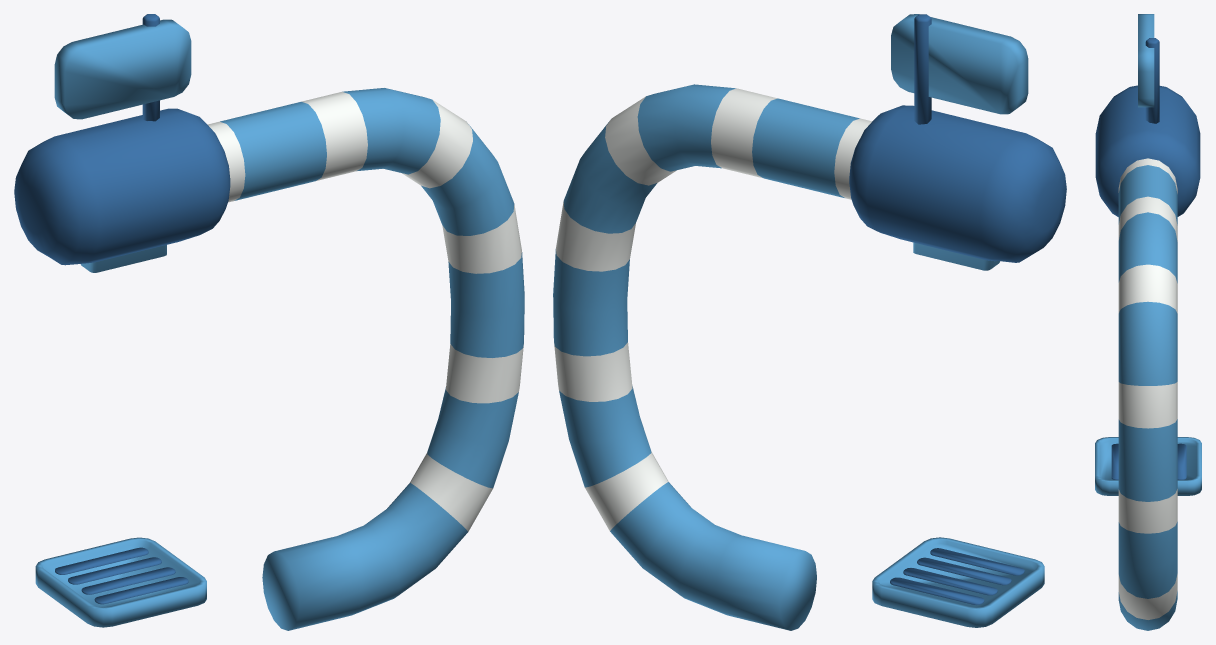
File: Long Machine1.fbx
3 views of the same model, side by side, from view 1: azimuth 30°, elevation 25°; view 2: azimuth 150°, elevation 25°; view 3: azimuth 270°, elevation 25° (orthographic). The views are drawn at different scales.
Visible parts, largest first — view 1: Cylinder.049, Cylinder.050, Cube.188, Cube.214, Cube.215, Cube.216, Cube.217, Cube.218; view 2: Cylinder.049, Cylinder.050, Cube.188, Cube.214, Cylinder.051, Cube.215, Cube.216, Cube.217, Cube.218; view 3: Cylinder.049, Cylinder.050, Cube.214, Cube.188, Cylinder.051, Cube.217, Cube.218.
Boxes of the visible parts, x1,y1,x2,y2 form: Cylinder.049: (207, 88, 524, 630); Cylinder.050: (14, 108, 230, 272); Cube.188: (54, 19, 191, 119); Cube.214: (35, 537, 206, 627); Cube.215: (81, 567, 175, 594); Cube.216: (68, 557, 161, 584); Cube.217: (55, 547, 148, 574); Cube.218: (94, 577, 188, 604); Cylinder.049: (553, 84, 871, 630); Cylinder.050: (849, 105, 1066, 270); Cube.188: (891, 14, 1028, 114); Cube.214: (872, 537, 1044, 627); Cylinder.051: (914, 14, 931, 124); Cube.215: (917, 557, 1011, 585); Cube.216: (903, 568, 997, 595); Cube.217: (890, 577, 984, 604); Cube.218: (930, 548, 1024, 575); Cylinder.049: (1118, 158, 1177, 630); Cylinder.050: (1095, 85, 1200, 216); Cube.214: (1095, 437, 1201, 495); Cube.188: (1138, 14, 1154, 107); Cylinder.051: (1145, 38, 1159, 123); Cube.217: (1177, 443, 1186, 479); Cube.218: (1111, 443, 1118, 479).
Bounding box in the file's own units: 194 × 244 × 46.56.
